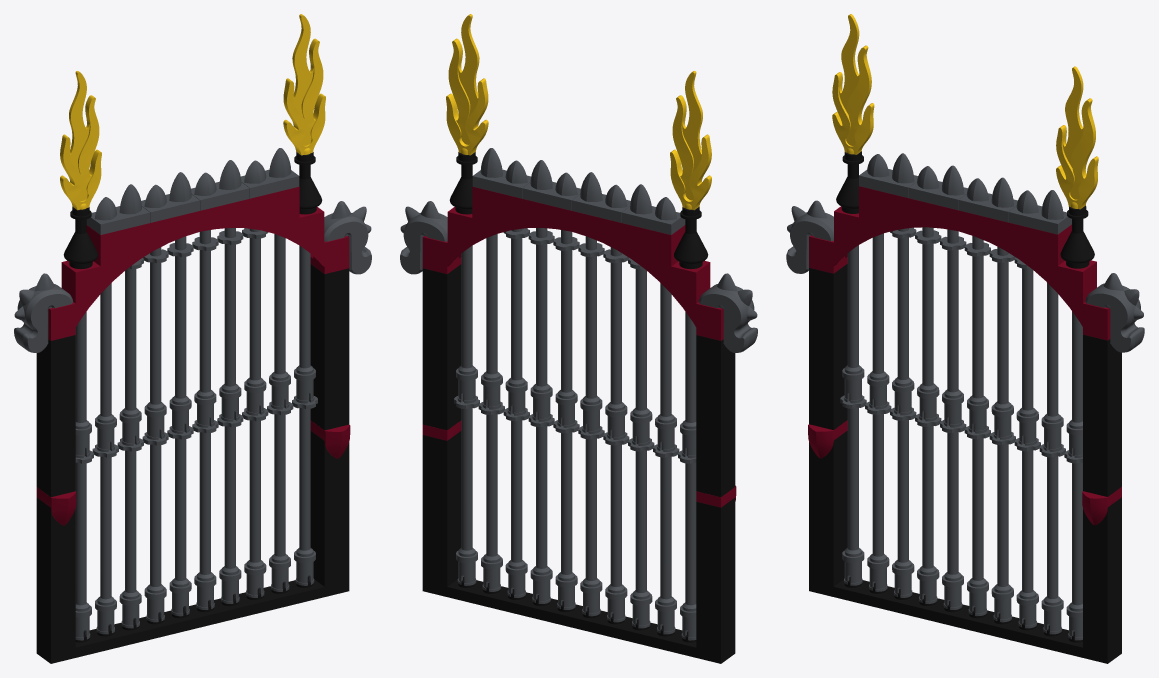
The model's file is portao.fbx.
The picture shows the model from 3 angles, left to right: view 1: azimuth 30°, elevation 25°; view 2: azimuth 150°, elevation 25°; view 3: azimuth 330°, elevation 25°; orthographic projection.
Visible parts, largest first — view 1: part.007, part.003, part.004, part.001, part.002, part, part.034, part.037, part.018, part.016, part.020, part.014 (+26 smaller); view 2: part.007, part.001, part.003, part.004, part.002, part, part.034, part.037, part.018, part.016, part.020, part.014 (+24 smaller); view 3: part.007, part.004, part.003, part, part.001, part.002, part.034, part.037, part.016, part.018, part.014, part.020 (+26 smaller).
Boxes of the visible parts, box(x1,y1,x2,y2) form: part.007: box(48, 186, 349, 340); part.003: box(36, 335, 75, 496); part.004: box(310, 264, 349, 430); part.001: box(36, 497, 75, 663); part.002: box(310, 431, 349, 596); part: box(51, 577, 349, 663); part.034: box(283, 14, 325, 155); part.037: box(60, 71, 101, 210); part.018: box(192, 230, 218, 427); part.016: box(167, 236, 193, 433); part.020: box(217, 228, 243, 421); part.014: box(143, 247, 168, 439); part.007: box(422, 186, 723, 340); part.001: box(696, 497, 735, 663); part.003: box(696, 335, 735, 496); part.004: box(422, 264, 461, 430); part.002: box(422, 431, 461, 596); part: box(422, 577, 696, 657); part.034: box(446, 14, 488, 155); part.037: box(670, 71, 711, 210); part.018: box(553, 230, 579, 427); part.016: box(578, 236, 604, 433); part.020: box(528, 228, 554, 421); part.014: box(603, 247, 628, 439); part.007: box(809, 186, 1110, 340); part.004: box(1083, 334, 1121, 496); part.003: box(809, 264, 847, 429); part: box(809, 576, 1121, 663); part.001: box(809, 430, 847, 596); part.002: box(1083, 497, 1121, 663); part.034: box(1056, 66, 1098, 209); part.037: box(832, 14, 874, 154); part.016: box(940, 229, 966, 427); part.018: box(964, 236, 990, 433); part.014: box(915, 227, 941, 421); part.020: box(989, 246, 1015, 439).
Size of the model in its own units: 11468 by 17847 by 1190.
